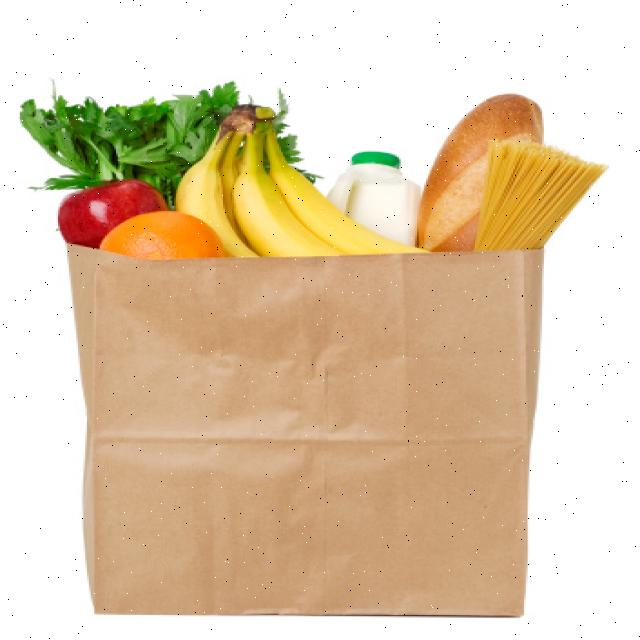paper bag: (30, 198, 585, 638)
